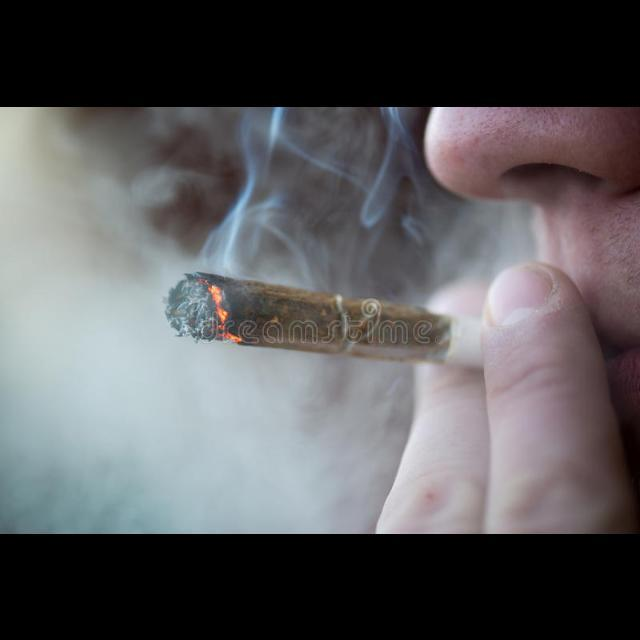rokok: (151, 254, 471, 386)
